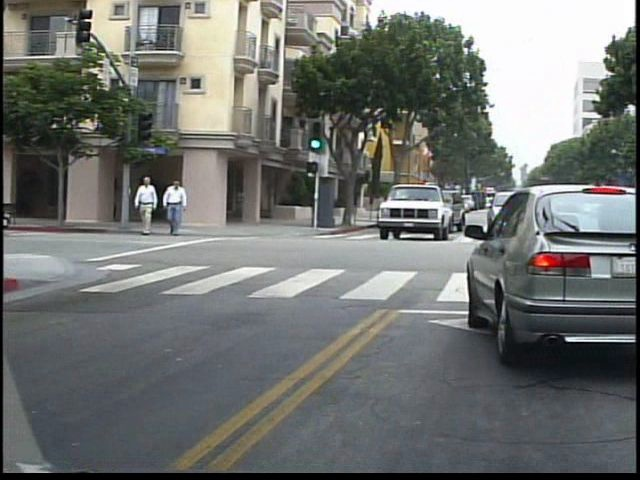person: (140, 173, 168, 242), (169, 174, 197, 240)
